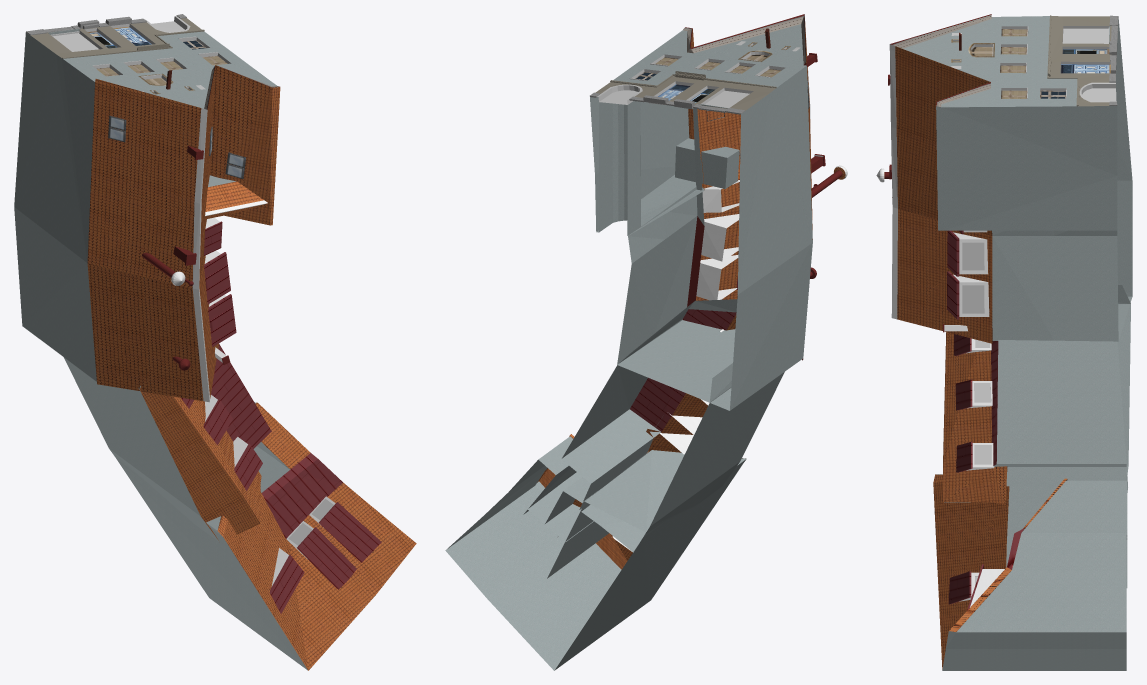
File: Viru_8.obj
3 views of the same model, side by side, from view 1: azimuth 30°, elevation 25°; view 2: azimuth 150°, elevation 25°; view 3: azimuth 270°, elevation 25° (orthographic). The views are drawn at different scales.
Parts seen in each view (by area): view 1: Viru_8; view 2: Viru_8; view 3: Viru_8.
Part boxes in pixels (bbox=[...]): Viru_8: bbox=[14, 14, 416, 670]; Viru_8: bbox=[445, 14, 847, 670]; Viru_8: bbox=[876, 14, 1132, 670].
Bounding box in the file's own units: 23.65 × 46.25 × 18.52.
